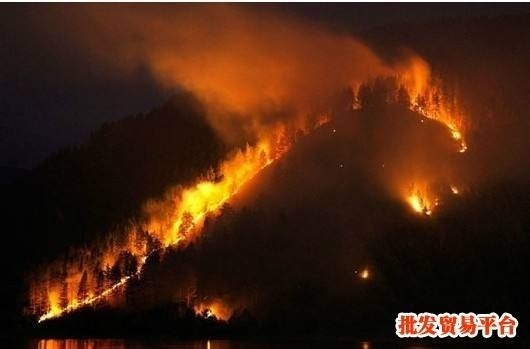fire: (48, 49, 453, 322)
